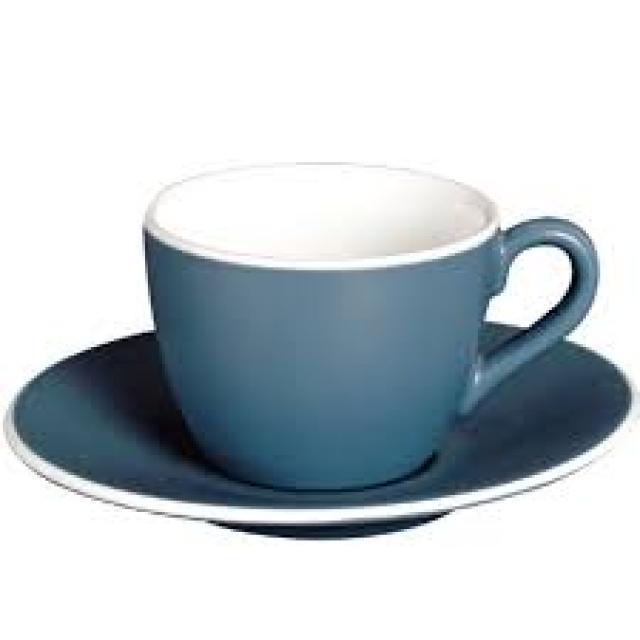taza: (143, 159, 602, 493)
